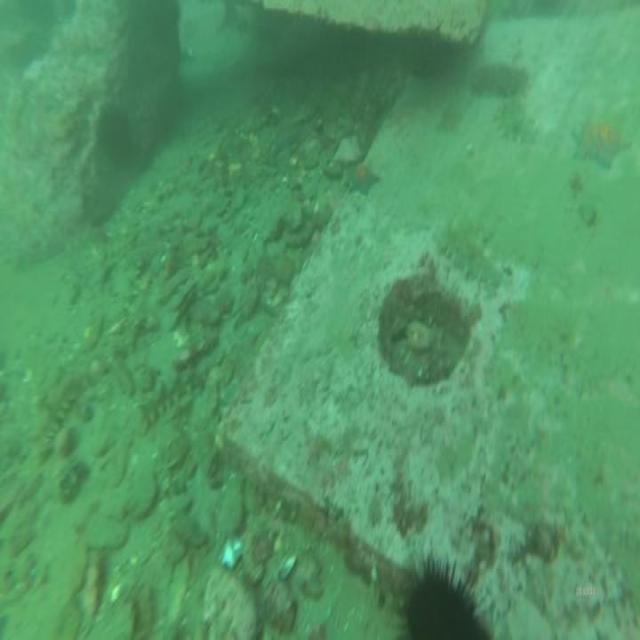echinus: (392, 543, 493, 640), (92, 98, 135, 171)
holothurian: (36, 368, 92, 454), (438, 225, 503, 292), (137, 364, 193, 436)
starfish: (568, 109, 632, 171), (346, 157, 382, 199)
